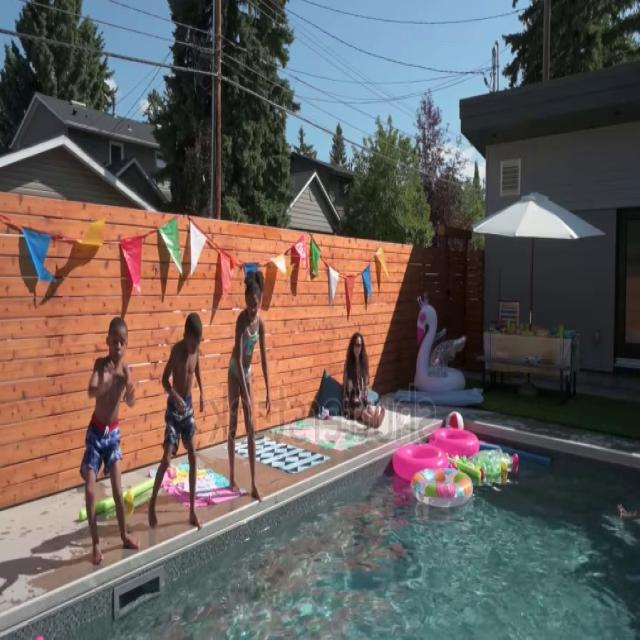adult: (343, 331, 384, 432)
child: (83, 316, 142, 564), (147, 311, 206, 533), (227, 270, 272, 503)
